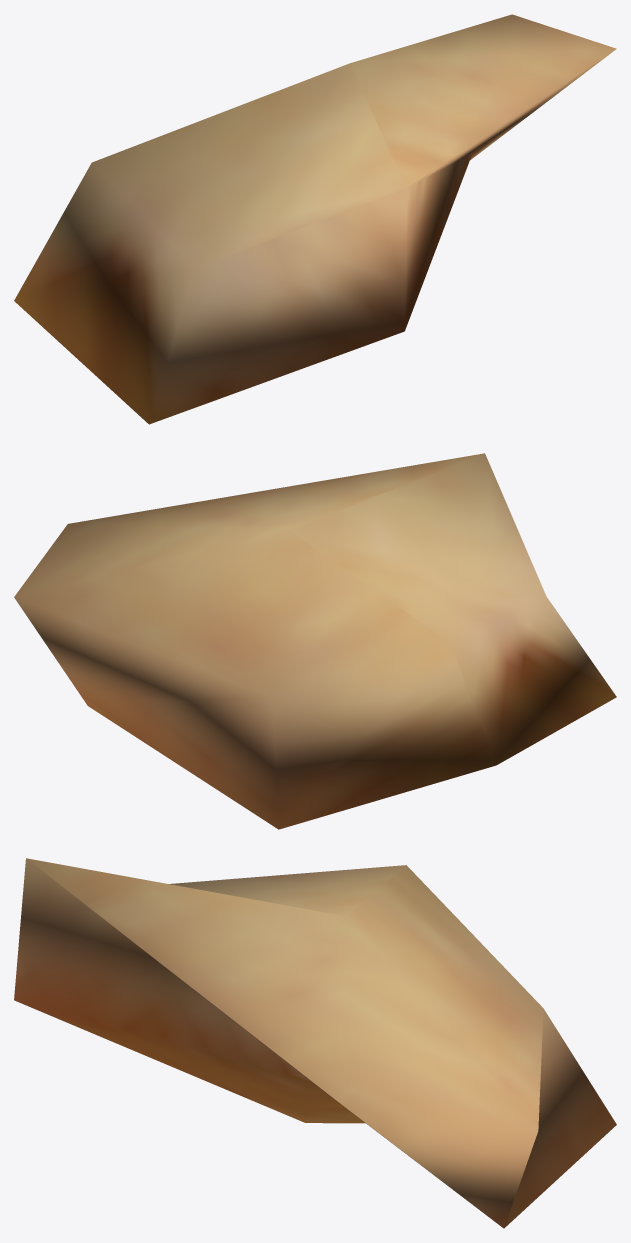
Rendered from SM_BreakfastProps_BreadCrumb_02.fbx.
3 views of the same model, one above another, from view 1: azimuth 30°, elevation 25°; view 2: azimuth 150°, elevation 25°; view 3: azimuth 270°, elevation 25° (orthographic). The views are drawn at different scales.
Parts seen in each view (by area): view 1: SM_BreakfastProps_BreadCrumb_02_LOD0; view 2: SM_BreakfastProps_BreadCrumb_02_LOD0; view 3: SM_BreakfastProps_BreadCrumb_02_LOD0.
Boxes of the visible parts, box(x1,y1,x2,y2) form: SM_BreakfastProps_BreadCrumb_02_LOD0: box(14, 14, 616, 424); SM_BreakfastProps_BreadCrumb_02_LOD0: box(14, 453, 616, 829); SM_BreakfastProps_BreadCrumb_02_LOD0: box(14, 858, 616, 1228).
Size of the model in its own units: 2.04 by 1.74 by 0.881.
1 material, 1 textured.
